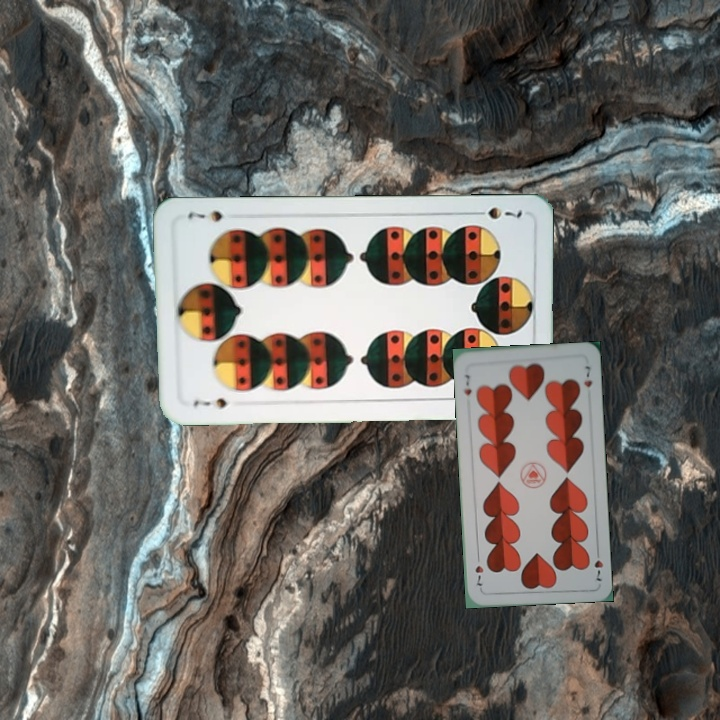H7: (590, 545, 606, 583), (460, 371, 474, 397)
S7: (468, 203, 525, 221), (189, 394, 238, 411)
